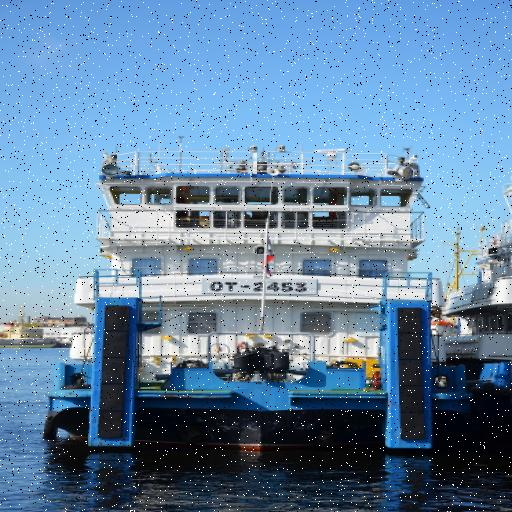tugboat: (39, 144, 469, 463)
